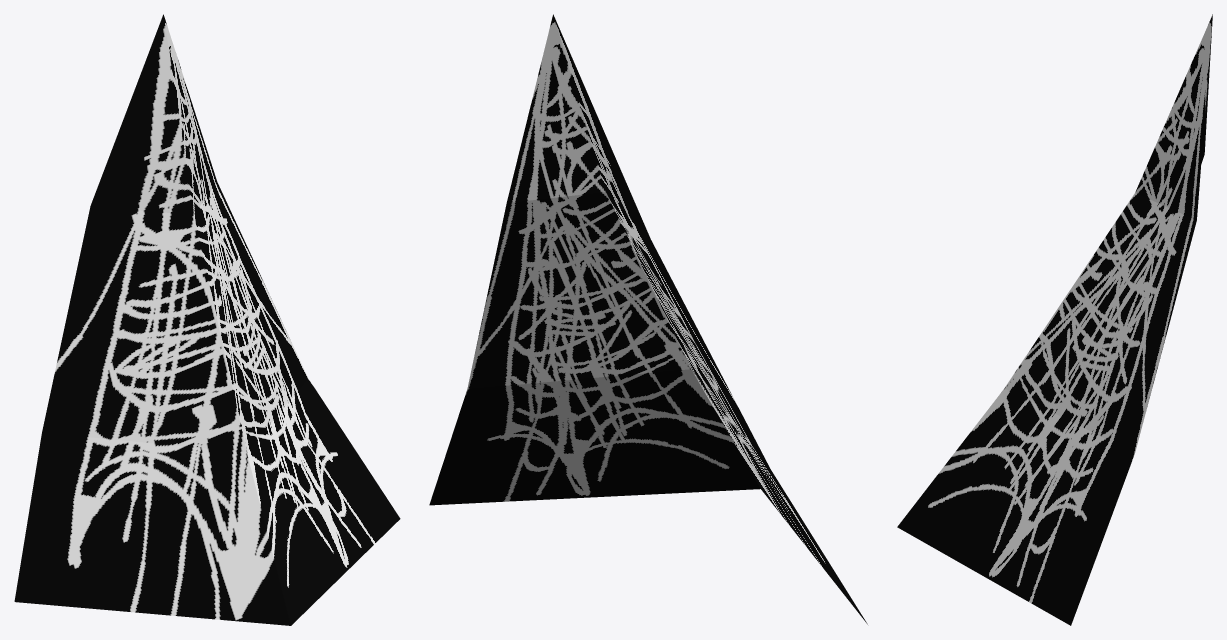
File: Spider_Web_01.fbx
3 renders of one model, left to right at view 1: azimuth 30°, elevation 25°; view 2: azimuth 150°, elevation 25°; view 3: azimuth 270°, elevation 25°, orthographic. The views are drawn at different scales.
Parts seen in each view (by area): view 1: Spider_Web_01; view 2: Spider_Web_01; view 3: Spider_Web_01.
Part boxes in pixels (x1=…): Spider_Web_01: x1=14, y1=14, x2=400, y2=625; Spider_Web_01: x1=429, y1=14, x2=867, y2=624; Spider_Web_01: x1=897, y1=14, x2=1212, y2=625.
Bounding box in the file's own units: 245 × 311 × 170.
1 material, 1 textured.
